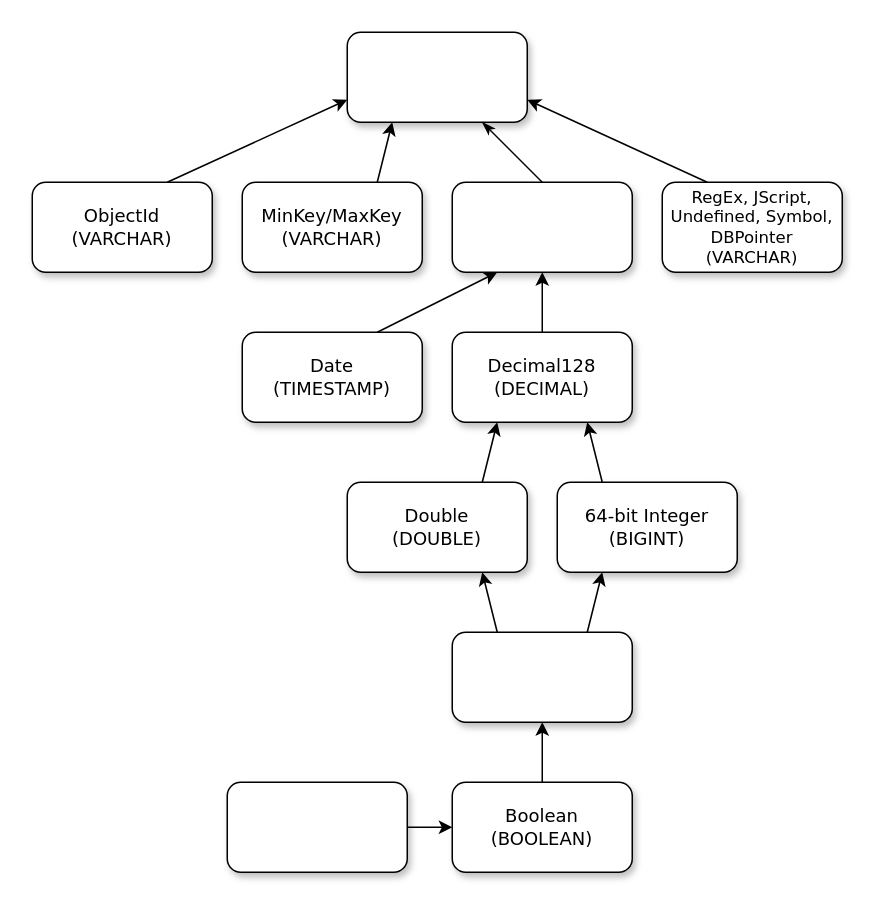
Some shapes in this 878 by 909 pixel diagram are drawn without their labels. Each missing label, with the centre of its shape:
"32-bit Integer (INTEGER)" goes at (543,679).
"Binary Data (VARBINARY)" goes at (438,79).
"Null (NULL)" goes at (318,829).
"String (VARCHAR)" goes at (543,229).
